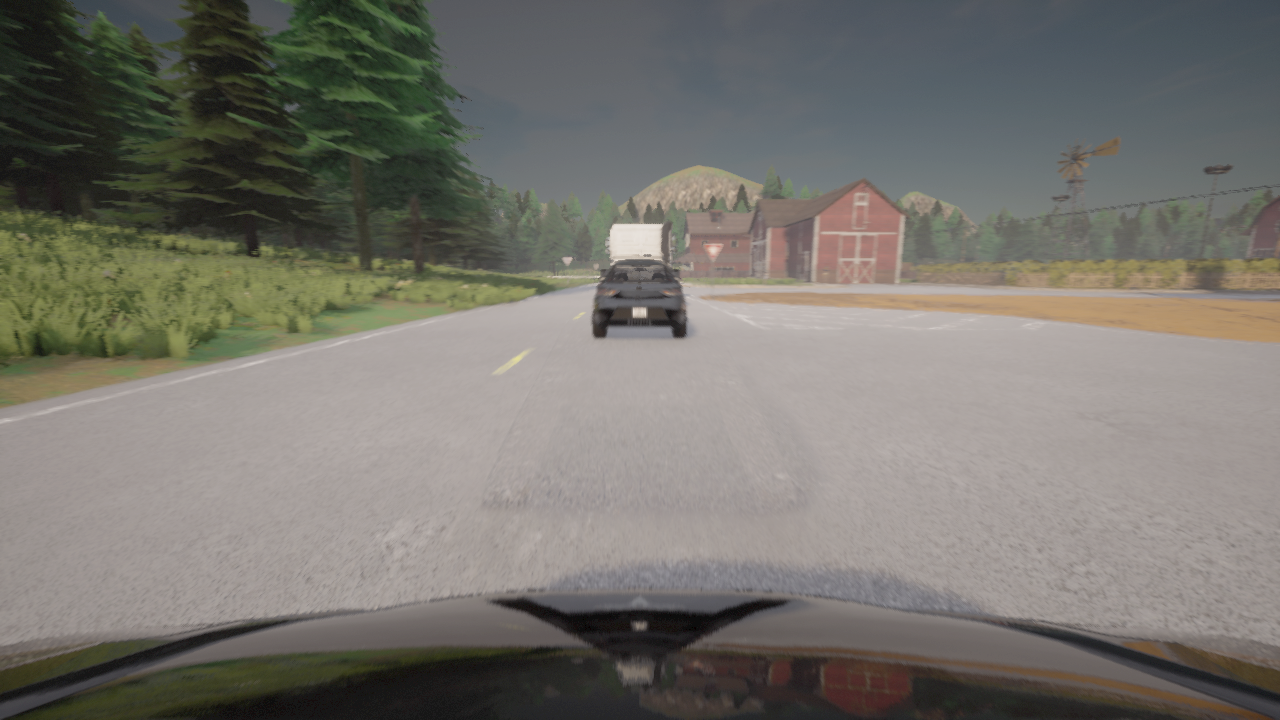cyclist: (0, 588, 1279, 719), (593, 260, 686, 337), (601, 221, 679, 276)
pedestrian: (823, 264, 829, 283), (764, 272, 766, 285)
